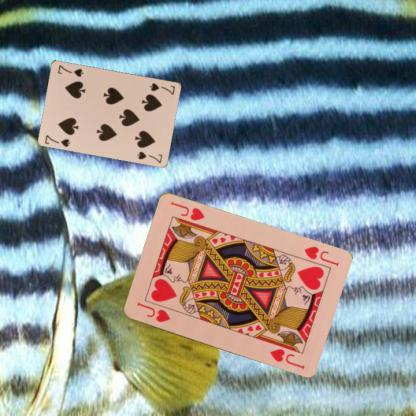7s: (43, 132, 72, 148), (148, 80, 176, 96)
Jh: (134, 299, 172, 324), (301, 244, 340, 268)
